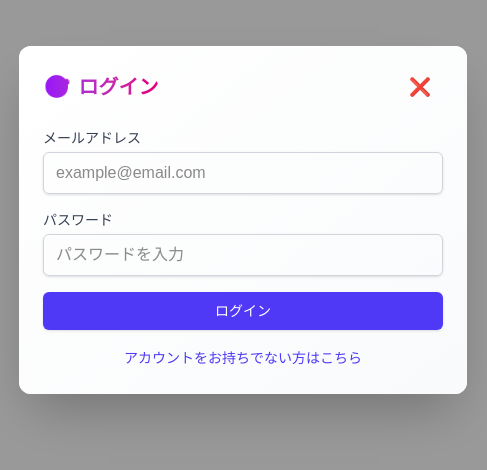
Scenario: SupabaseAuthModal › フォーム操作 › ログイン失敗時にエラーメッセージが表示される
The image size is (487, 470).
Type "test@example.com" into the field labelled "メールアドレス" at (243, 173), box [43,152,443,194]
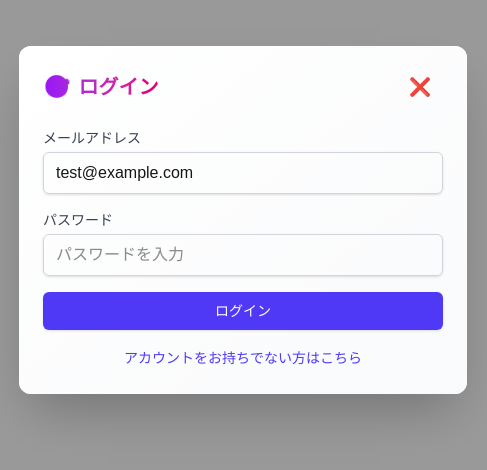
Type "wrongpassword" into the password field labelled "パスワード" at (243, 255), box [43,234,443,276]
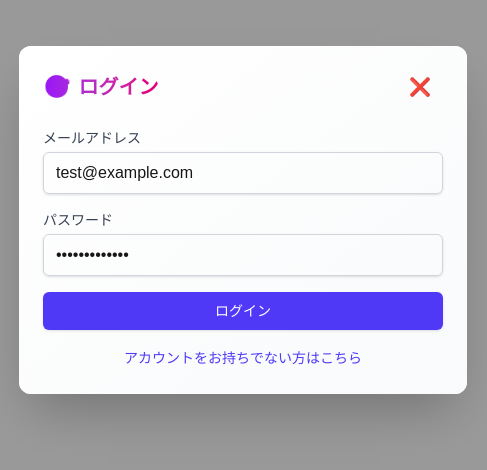
Click the button "ログイン" at (243, 311), box [43,292,443,330]
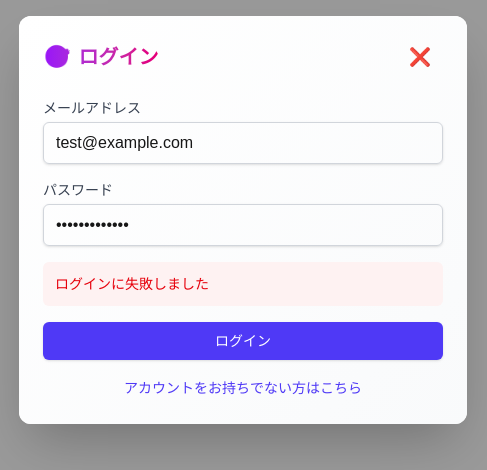
Expected: the text "ログインに失敗しました" is shown, [43,262,443,306]
